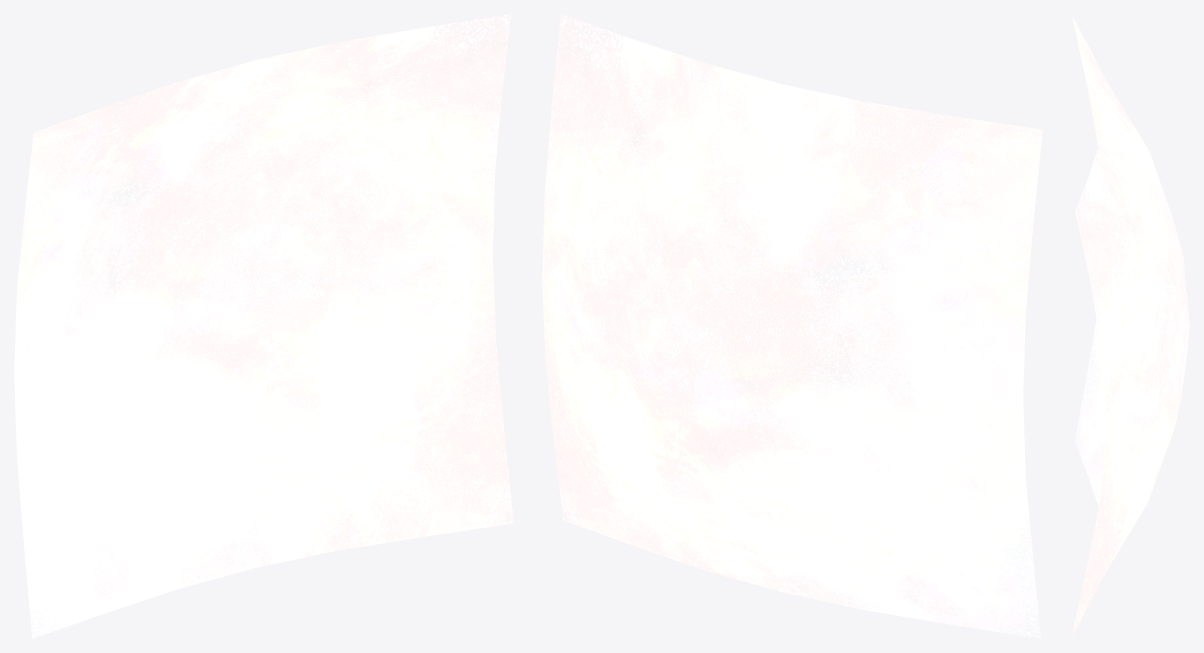
Rendered from bg_man2_3db.gltf.
The picture shows the model from 3 angles, left to right: view 1: azimuth 30°, elevation 25°; view 2: azimuth 150°, elevation 25°; view 3: azimuth 270°, elevation 25°; orthographic projection. The views are drawn at different scales.
Parts seen in each view (by area): view 1: bg_man2.3db; view 2: bg_man2.3db; view 3: bg_man2.3db.
Boxes of the visible parts, x1,y1,x2,y2 form: bg_man2.3db: (14, 14, 513, 638); bg_man2.3db: (542, 14, 1042, 638); bg_man2.3db: (1071, 15, 1189, 637).
Size of the model in its own units: 73.75 by 74.6 by 18.8.
Materials: 4 (4 with a texture image).
